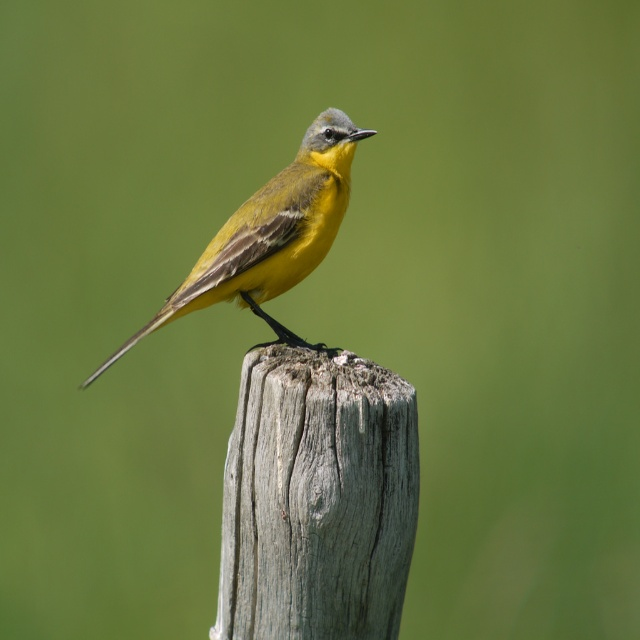Canary: (76, 104, 378, 395)
